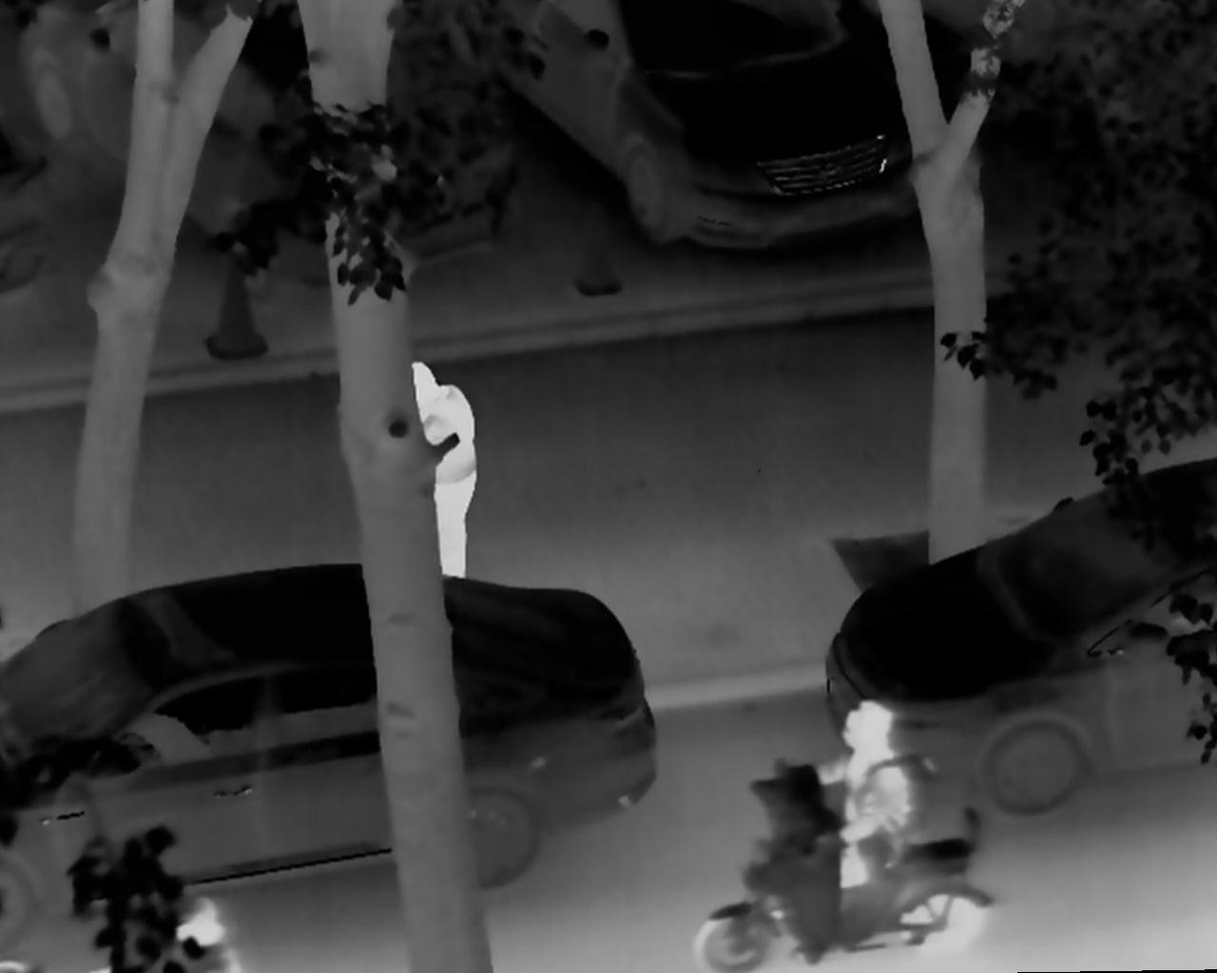person: (781, 684, 918, 904), (399, 354, 480, 583), (94, 884, 256, 973)
